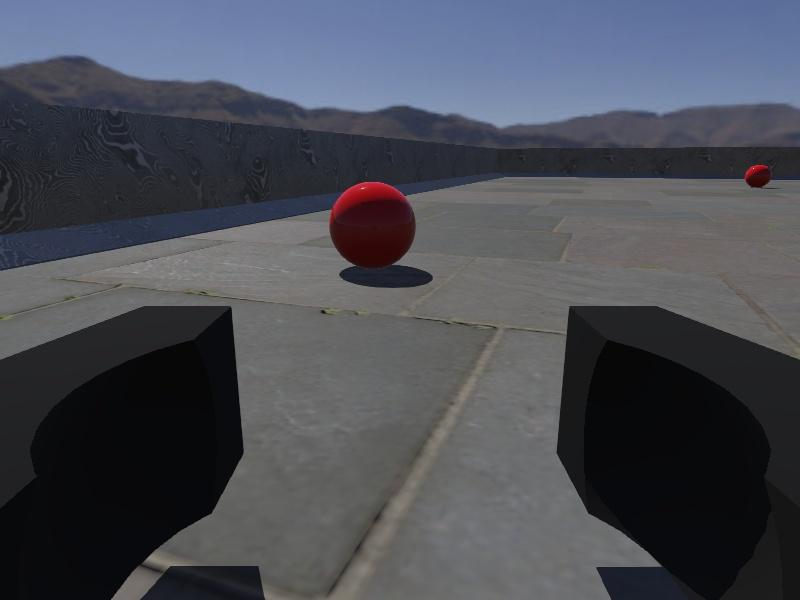red ball: (328, 180, 418, 271), (743, 162, 772, 189)
